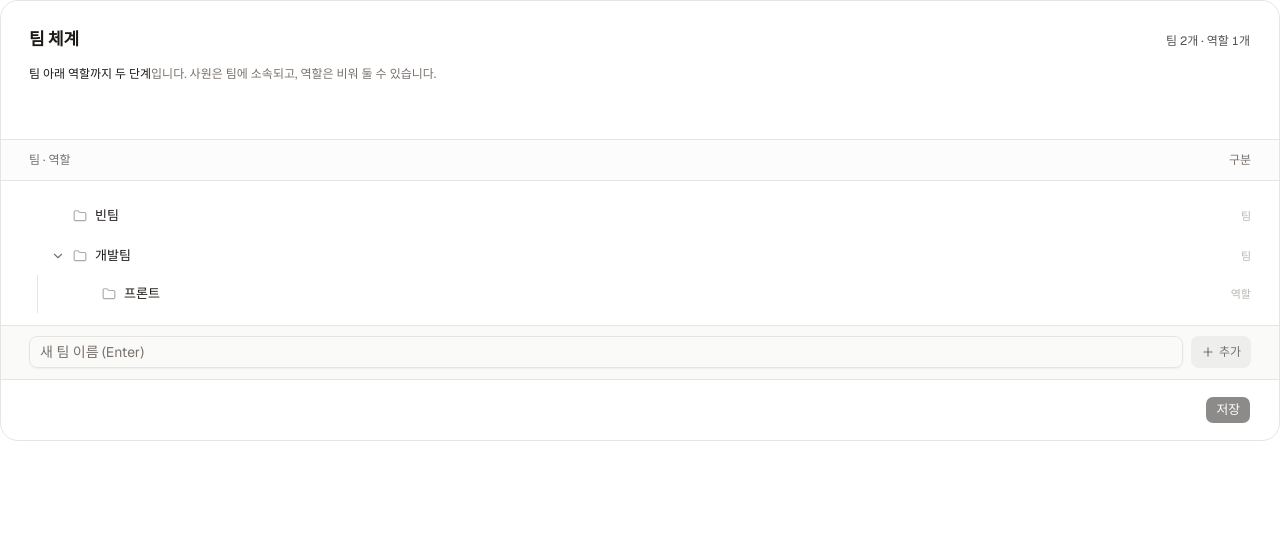
Test: 저장 실패 문구 › 실패하면 저장 줄에 남고, 편집하면 사라진다
// 뭔가 바꿔야 [저장]이 열린다
Type "영업팀" into the field with placeholder "새 팀 이름 (Enter)" at (606, 352), box [29, 336, 1183, 368]
Then press Enter
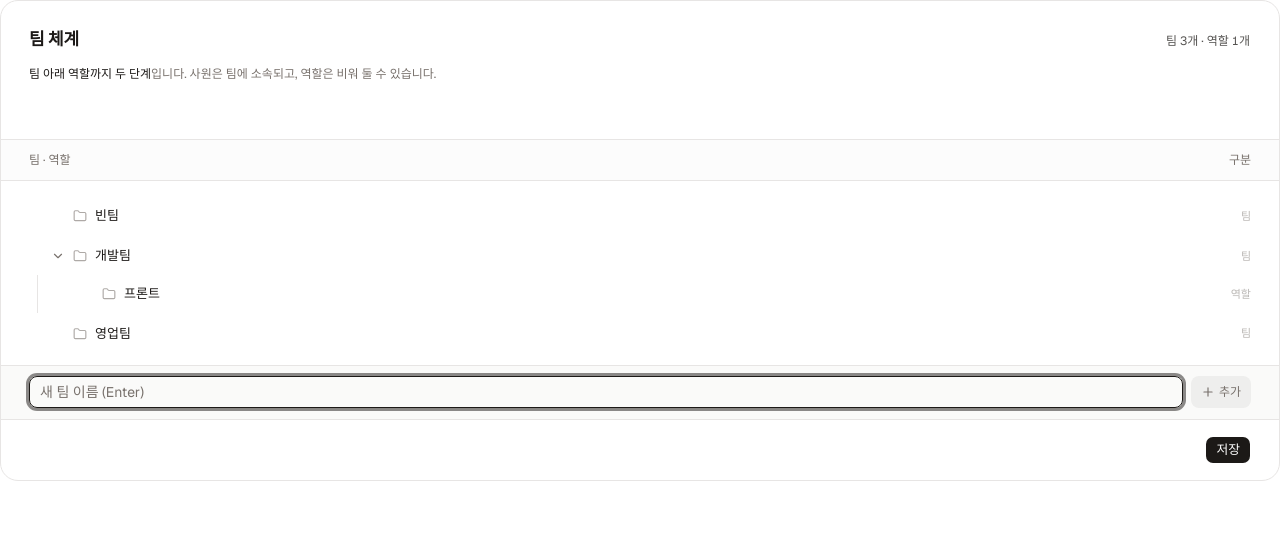
Click the button "저장" at (1228, 450), box [1206, 436, 1251, 464]
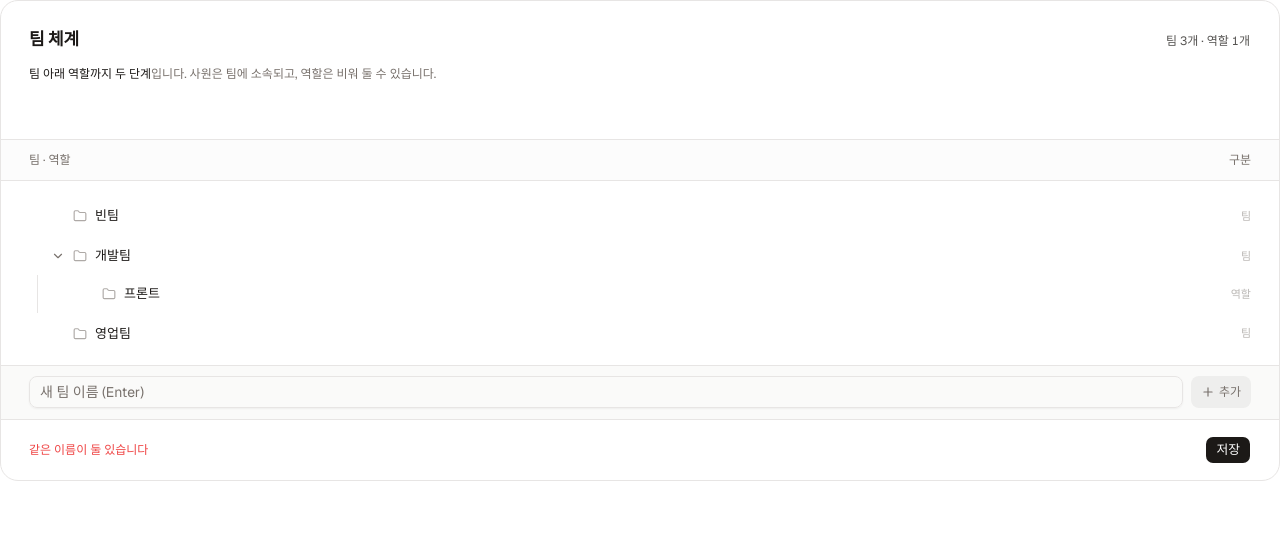
Check: the text "같은 이름이 둘 있습니다" is shown, box [29, 442, 148, 458]
Type "가" into the field with placeholder "새 팀 이름 (Enter)" at (606, 392), box [29, 376, 1183, 408]
Then press Enter
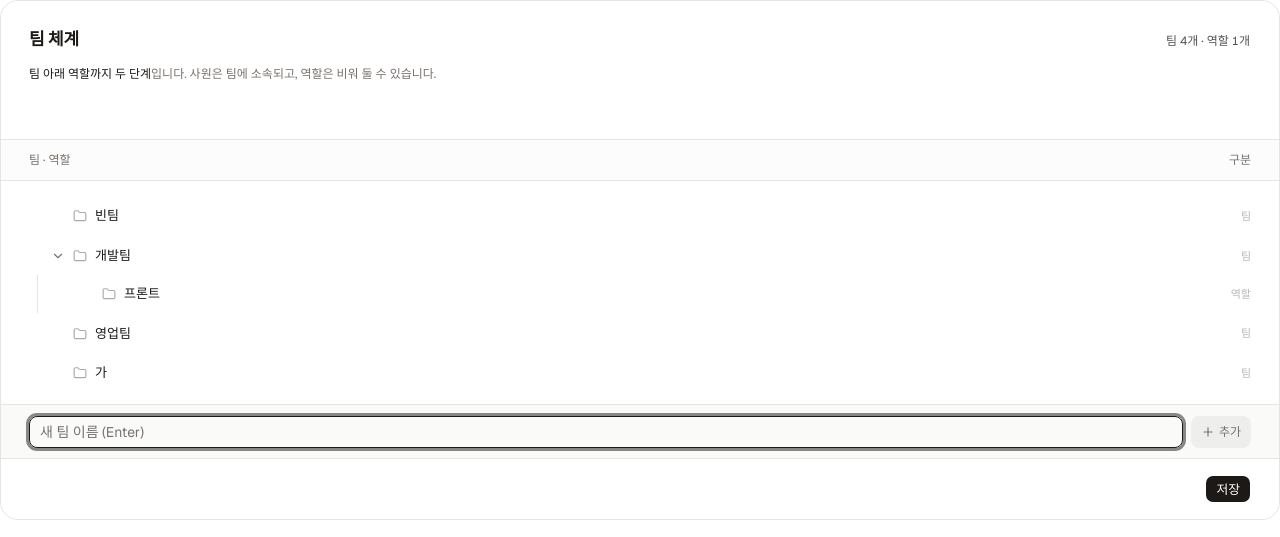
Check: the text "같은 이름이 둘 있습니다" is gone
